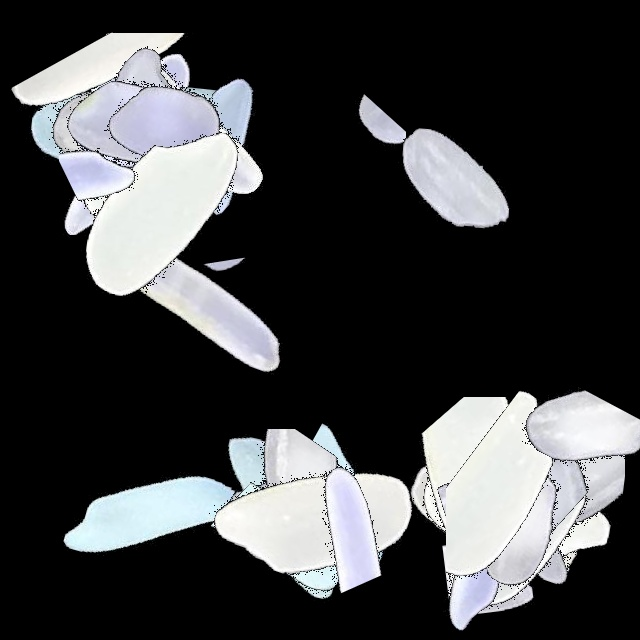Broken: (371, 397, 621, 571), (283, 390, 448, 640), (146, 429, 396, 593), (446, 390, 608, 640), (189, 480, 439, 640), (169, 473, 419, 631), (474, 346, 625, 596), (490, 340, 640, 590), (258, 390, 407, 640), (390, 389, 640, 535), (8, 95, 258, 239), (390, 500, 640, 640), (390, 502, 640, 640), (0, 33, 250, 163), (170, 433, 420, 547), (15, 66, 265, 164), (34, 42, 130, 292), (372, 475, 622, 570), (313, 27, 406, 277), (266, 390, 358, 640), (59, 25, 150, 275), (454, 390, 542, 640), (0, 96, 250, 183), (199, 174, 280, 424), (379, 368, 629, 444)
Full: (390, 390, 640, 640), (366, 390, 616, 640), (0, 18, 250, 268), (70, 177, 320, 427), (0, 0, 250, 250), (154, 390, 404, 640), (27, 390, 277, 640), (99, 18, 349, 268), (390, 385, 640, 635), (351, 342, 601, 592), (72, 0, 322, 250), (11, 0, 261, 250), (36, 0, 286, 250), (42, 0, 292, 250), (187, 390, 437, 640), (34, 89, 284, 339), (329, 54, 579, 304)
